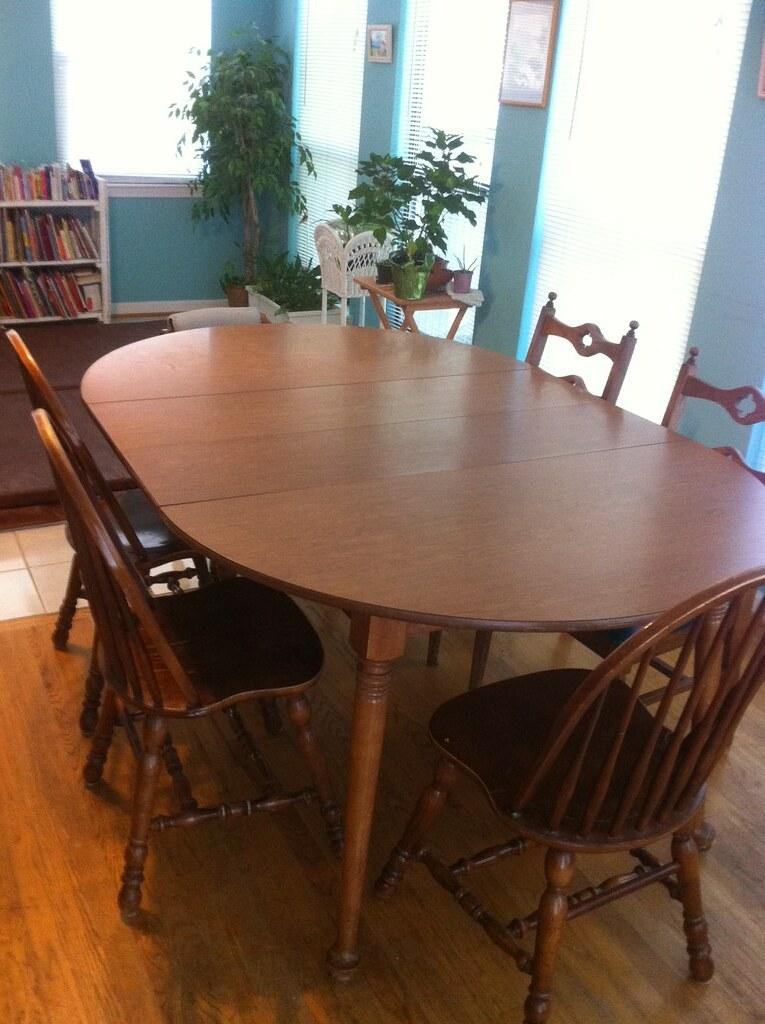table: (78, 321, 765, 982), (353, 274, 485, 341)
